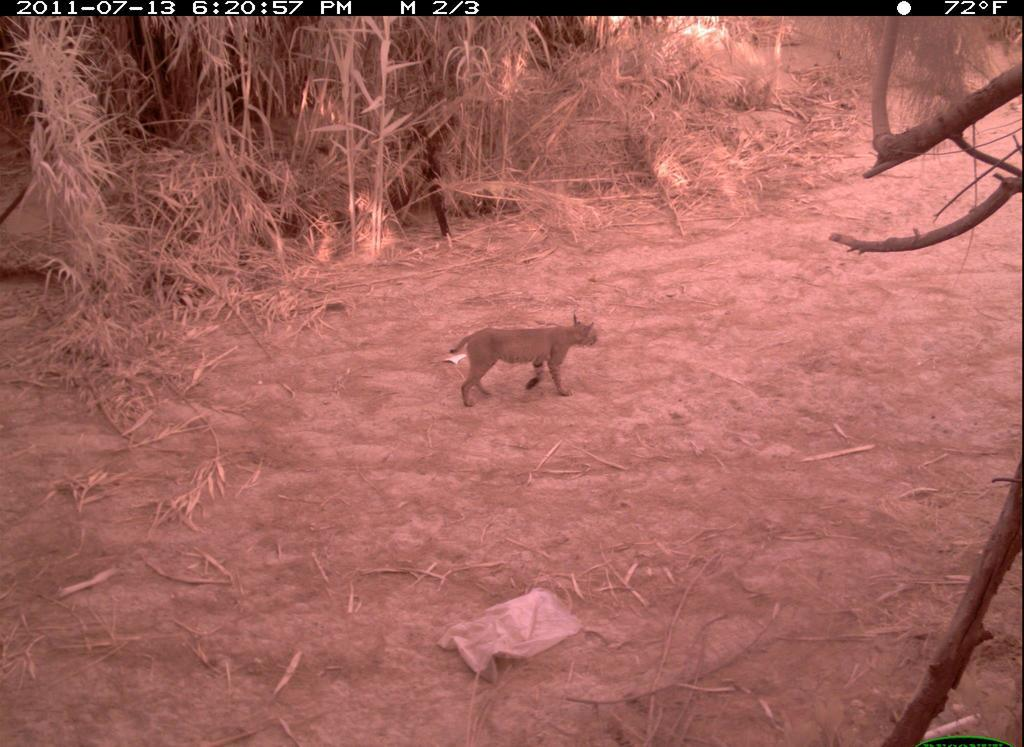bobcat: (449, 313, 605, 413)
